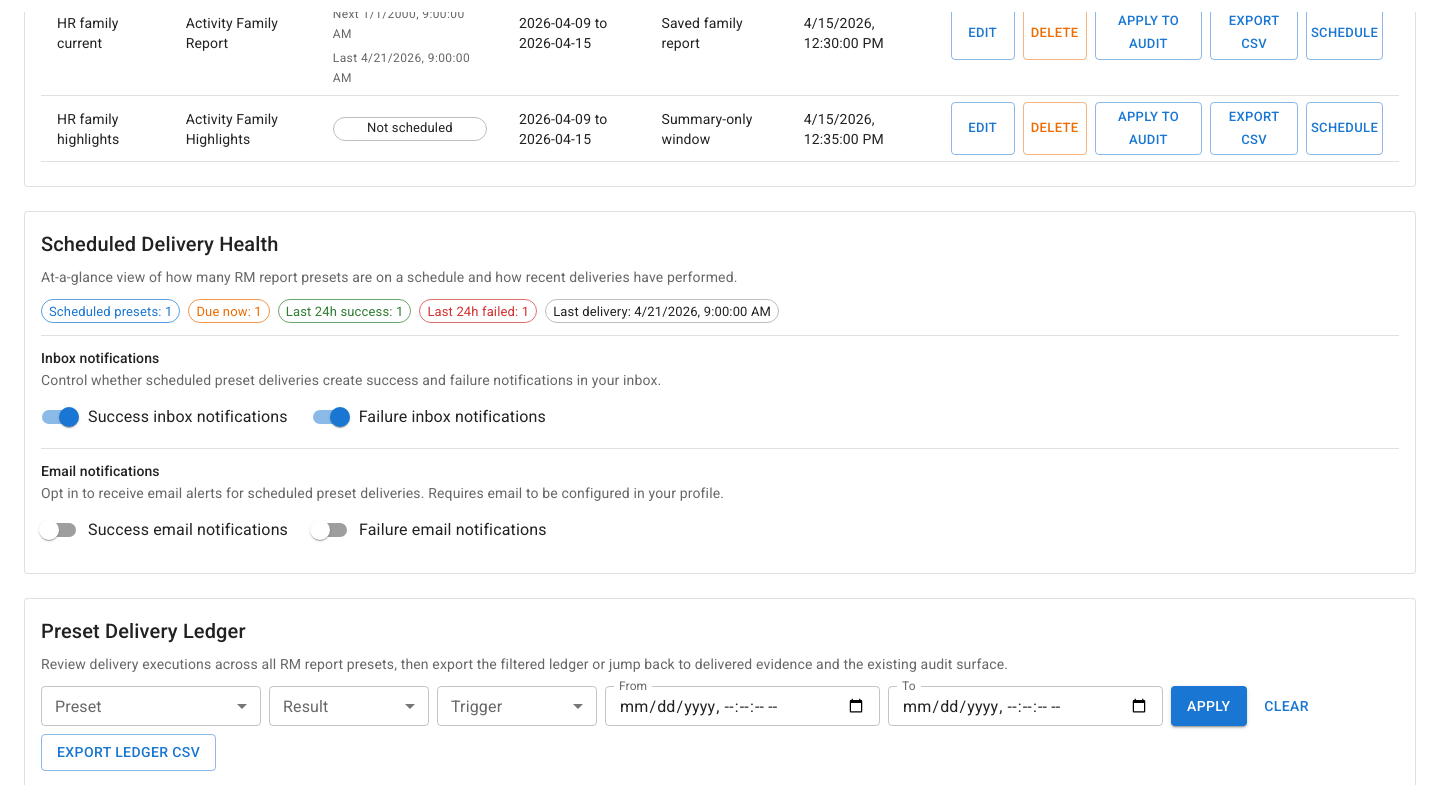
Test case: RecordsManagementPage › rolls back success preset delivery notification preference toggle when update fails
(page scrolled)
Step 1. Click the checkbox labelled "Success inbox notifications" → click(165, 417), box top-left (42, 407), bottom-right (288, 427)
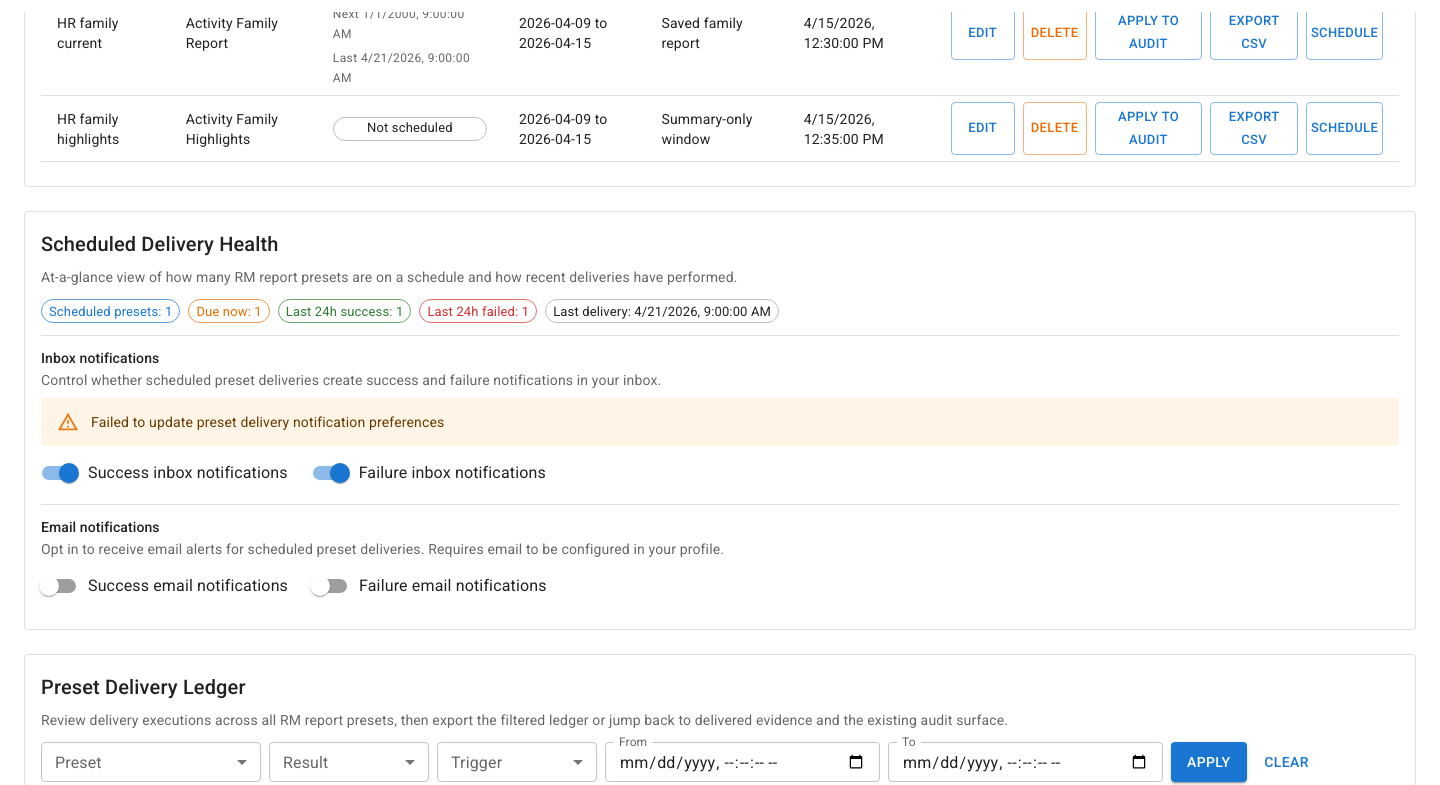
Expected: the checkbox labelled "Success inbox notifications" is checked, top-left (42, 463), bottom-right (288, 483)
Now the text "Failed to update preset delivery notification preferences" is shown, box top-left (91, 414), bottom-right (444, 430)
